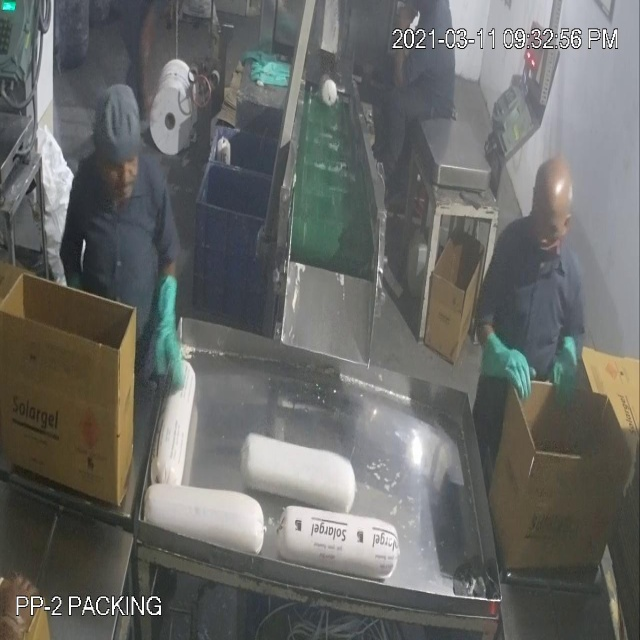Guantes: (142, 268, 194, 401), (467, 322, 542, 410), (549, 318, 590, 417)
Sin_guantes: (1, 562, 46, 631)
